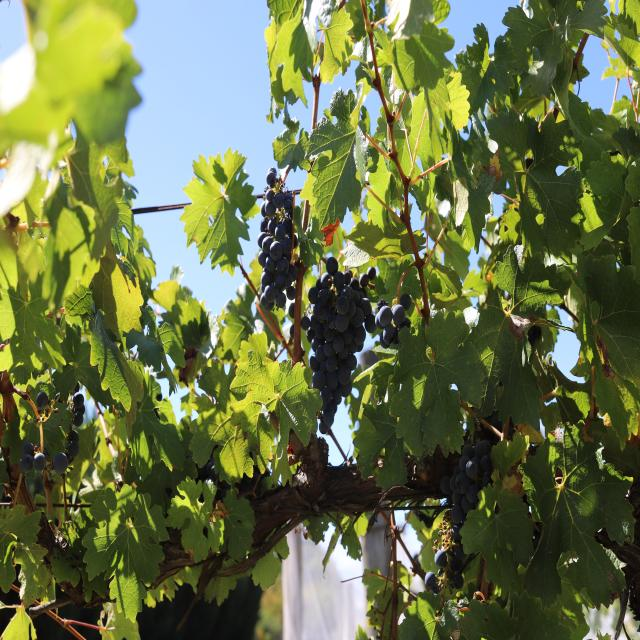grapes: (300, 256, 412, 433), (301, 256, 376, 433), (426, 439, 493, 593), (258, 168, 299, 316), (257, 167, 298, 311)
stem: (396, 262, 415, 304), (282, 165, 291, 182)
